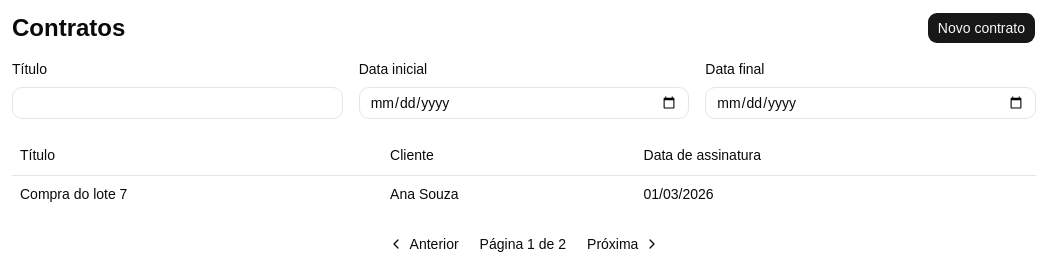
Test: telas de contratos › lista › pagina
Expected: the link "Compra do lote 7" is shown, [20,186,127,202]
Click the link with aria-label "Próxima página": (624, 244) [587,236,660,252]
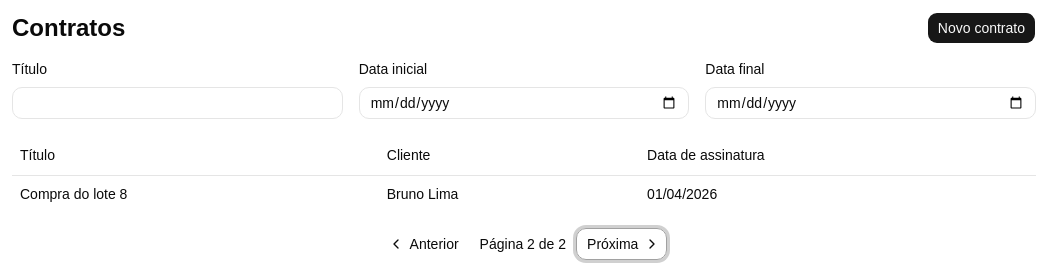
Expected: the link "Compra do lote 8" is shown, [20,186,127,202]
